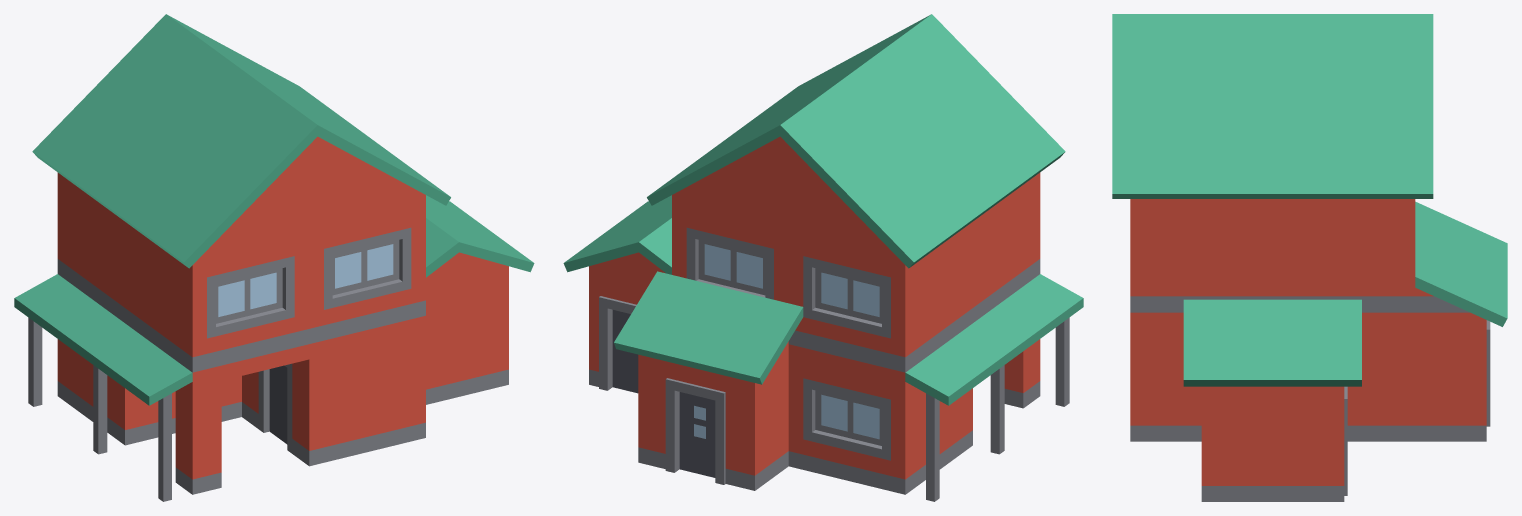
The model's file is house_type17.dae.
3 renders of one model, left to right at view 1: azimuth 30°, elevation 25°; view 2: azimuth 150°, elevation 25°; view 3: azimuth 270°, elevation 25°, orthographic. The views are drawn at different scales.
Visible parts, largest first — view 1: house_type17; view 2: house_type17; view 3: house_type17.
Part boxes in pixels (x1,y1,x2,y2): house_type17: [14, 14, 534, 501]; house_type17: [563, 14, 1083, 501]; house_type17: [1112, 14, 1507, 501].
Size of the model in its own units: 1.41 by 1.14 by 1.11.
